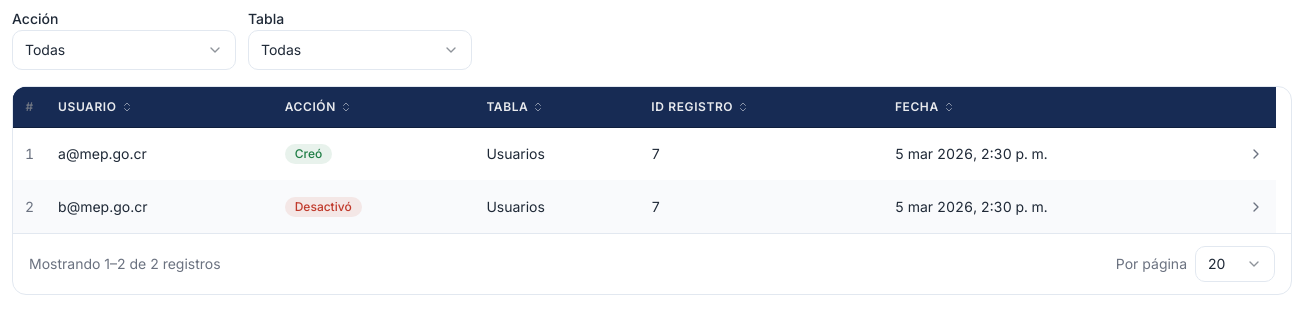
Test case: Auditoría › filtra la lista en memoria por acción
This screenshot has width=1292, height=312.
Click the dropdown named "Acción" at point(124, 50), box [12, 30, 236, 70]
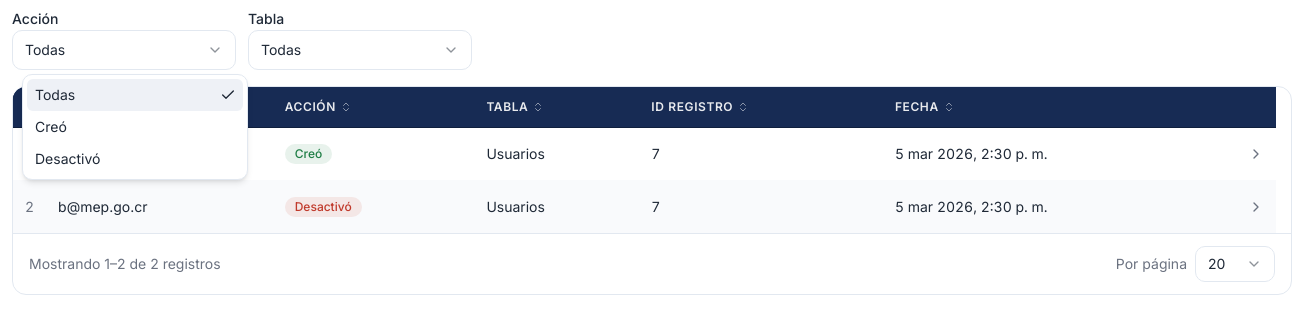
Click the option "Desactivó" at point(68, 158), box [35, 150, 100, 167]
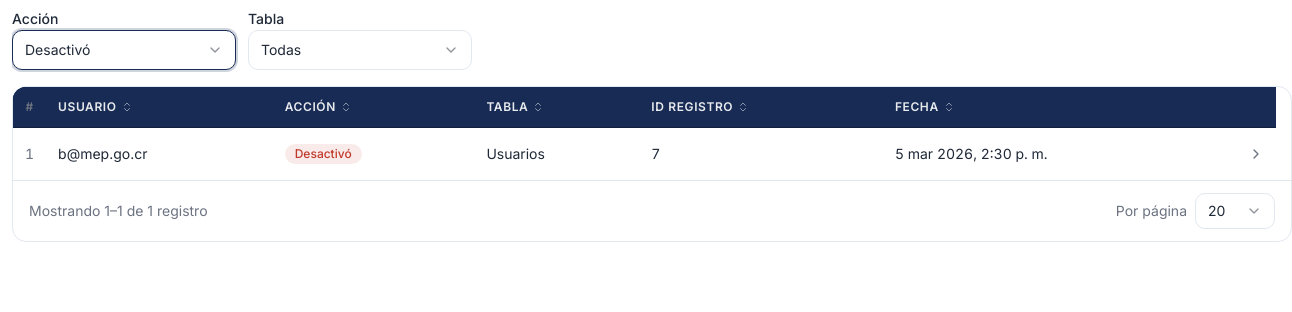
Result: the text "a@mep.go.cr" is gone
Result: the text "b@mep.go.cr" is shown at [46, 127, 273, 180]
